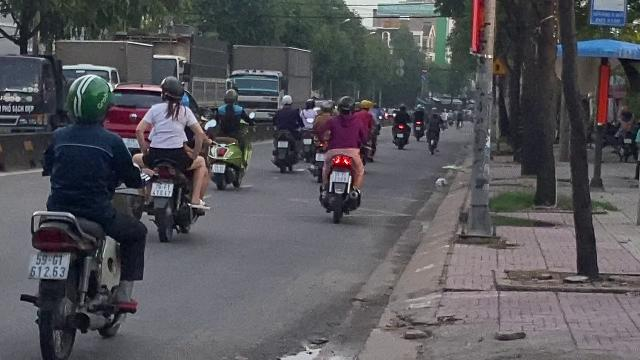helmet: (64, 74, 114, 126), (158, 75, 184, 103), (337, 96, 355, 114), (222, 88, 238, 103)
licenseplate: (28, 254, 68, 278), (150, 182, 172, 196), (332, 171, 348, 181), (212, 164, 225, 172)
motorcyclist: (18, 72, 150, 356), (134, 73, 210, 241), (315, 94, 371, 222), (206, 87, 250, 189)
